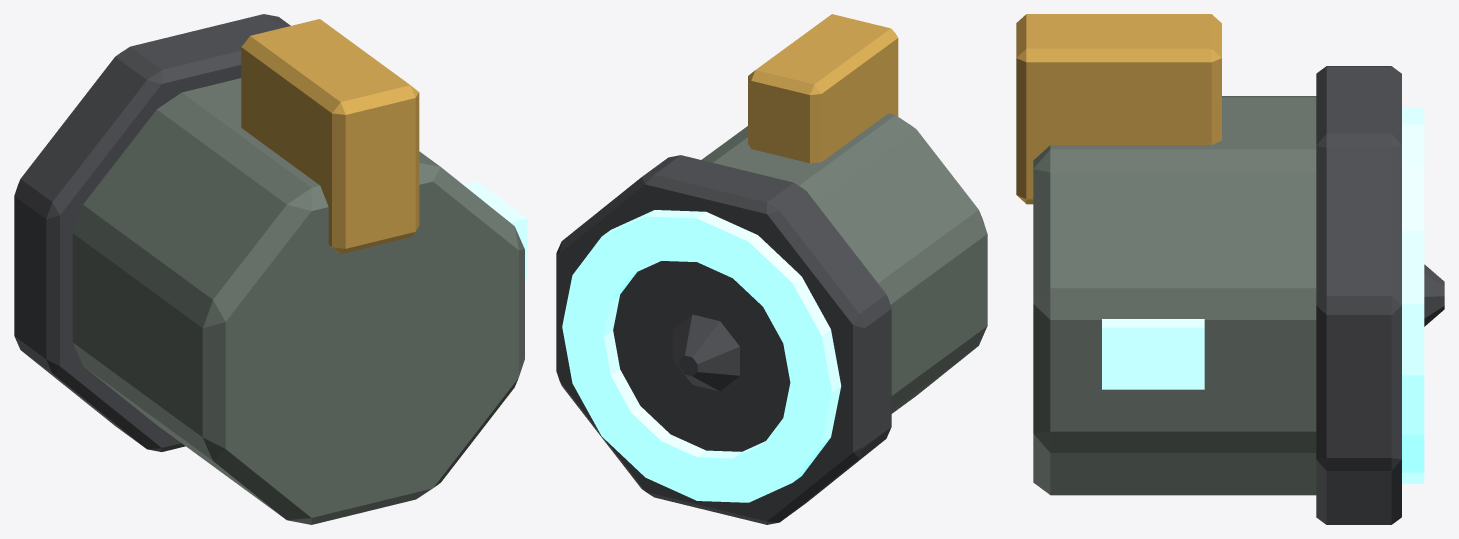
The model's file is heatsinkWeaponShockwave.816dd6ed.glb.
The picture shows the model from 3 angles, left to right: view 1: azimuth 30°, elevation 25°; view 2: azimuth 150°, elevation 25°; view 3: azimuth 270°, elevation 25°; orthographic projection. The views are drawn at different scales.
Parts seen in each view (by area): view 1: weapon_shockwave; view 2: weapon_shockwave; view 3: weapon_shockwave.
Part boxes in pixels (left/top/right/bottom): weapon_shockwave: left=14, top=14, right=527, bottom=524; weapon_shockwave: left=556, top=14, right=987, bottom=524; weapon_shockwave: left=1016, top=14, right=1444, bottom=524.
Bounding box in the file's own units: 1.28 × 1.48 × 1.25.
